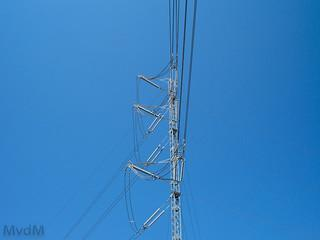power_tower: (126, 49, 196, 238)
